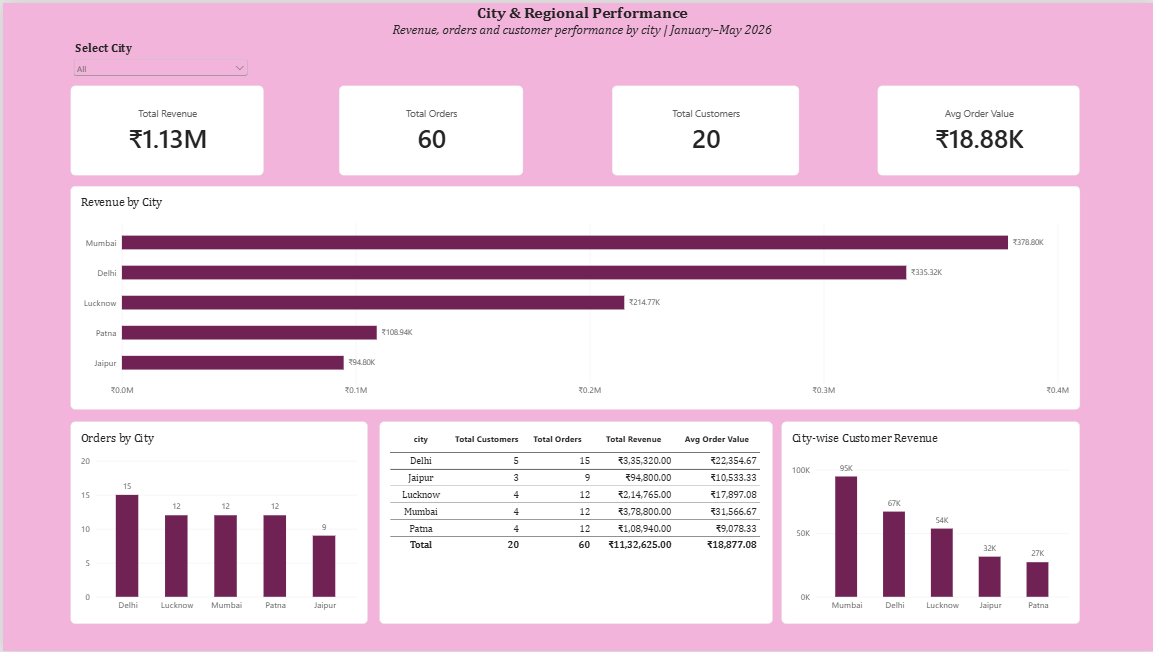

Layout of this report page (visuals, bound fields, positions):
{"tool":"powerbi","page":{"name":"City Analysis","canvas":[1920,1080],"ordinal":3},"visuals":[{"type":"textbox","box":[10,0,1910,62],"z":0},{"type":"cardVisual","fields":{"Data":["sales.Total Revenue"]},"box":[112.5,137.5,322.5,150],"z":1000},{"type":"cardVisual","fields":{"Data":["sales.Total Orders"]},"box":[560,137.5,307.5,150],"z":2000},{"type":"cardVisual","fields":{"Data":["sales.Total Customers"]},"box":[1015,137.5,312.5,150],"z":3000},{"type":"cardVisual","fields":{"Data":["sales.Avg Order Value"]},"box":[1457.5,137.5,337.5,150],"z":4000},{"type":"clusteredBarChart","title":"Revenue by City","fields":{"Category":["customers.city"],"Y":["sales.Total Revenue"]},"box":[112.5,305,1682.5,372.5],"z":5000},{"type":"clusteredColumnChart","title":"Orders by City","fields":{"Category":["customers.city"],"Y":["sales.Total Orders"]},"box":[112.5,697.5,495,337.5],"z":6000},{"type":"tableEx","fields":{"Values":["customers.city","sales.Total Customers","sales.Total Orders","sales.Total Revenue","sales.Avg Order Value"]},"box":[627.5,697.5,655,337.5],"z":7000},{"type":"clusteredColumnChart","title":"City-wise Customer Revenue","fields":{"Category":["customers.city"],"Y":["sales.Avg Customer Revenue"]},"box":[1297.5,697.5,497.5,337.5],"z":8000},{"type":"slicer","fields":{"Values":["customers.city"]},"box":[112.5,62.5,300,65],"z":9000}]}

Visuals, with their boxes in screenshot pixels (x1, y1, x2, y2), scaled from the page's 1920x1080 canvas onto the 1153x652 screenshot:
textbox: BBox(6, 0, 1152, 37)
cardVisual - sales.Total Revenue: BBox(68, 83, 261, 174)
cardVisual - sales.Total Orders: BBox(336, 83, 521, 174)
cardVisual - sales.Total Customers: BBox(610, 83, 797, 174)
cardVisual - sales.Avg Order Value: BBox(875, 83, 1078, 174)
"Revenue by City" clusteredBarChart: BBox(68, 184, 1078, 409)
"Orders by City" clusteredColumnChart: BBox(68, 421, 365, 625)
tableEx - customers.city x sales.Total Customers: BBox(377, 421, 770, 625)
"City-wise Customer Revenue" clusteredColumnChart: BBox(779, 421, 1078, 625)
slicer - customers.city: BBox(68, 38, 248, 77)
